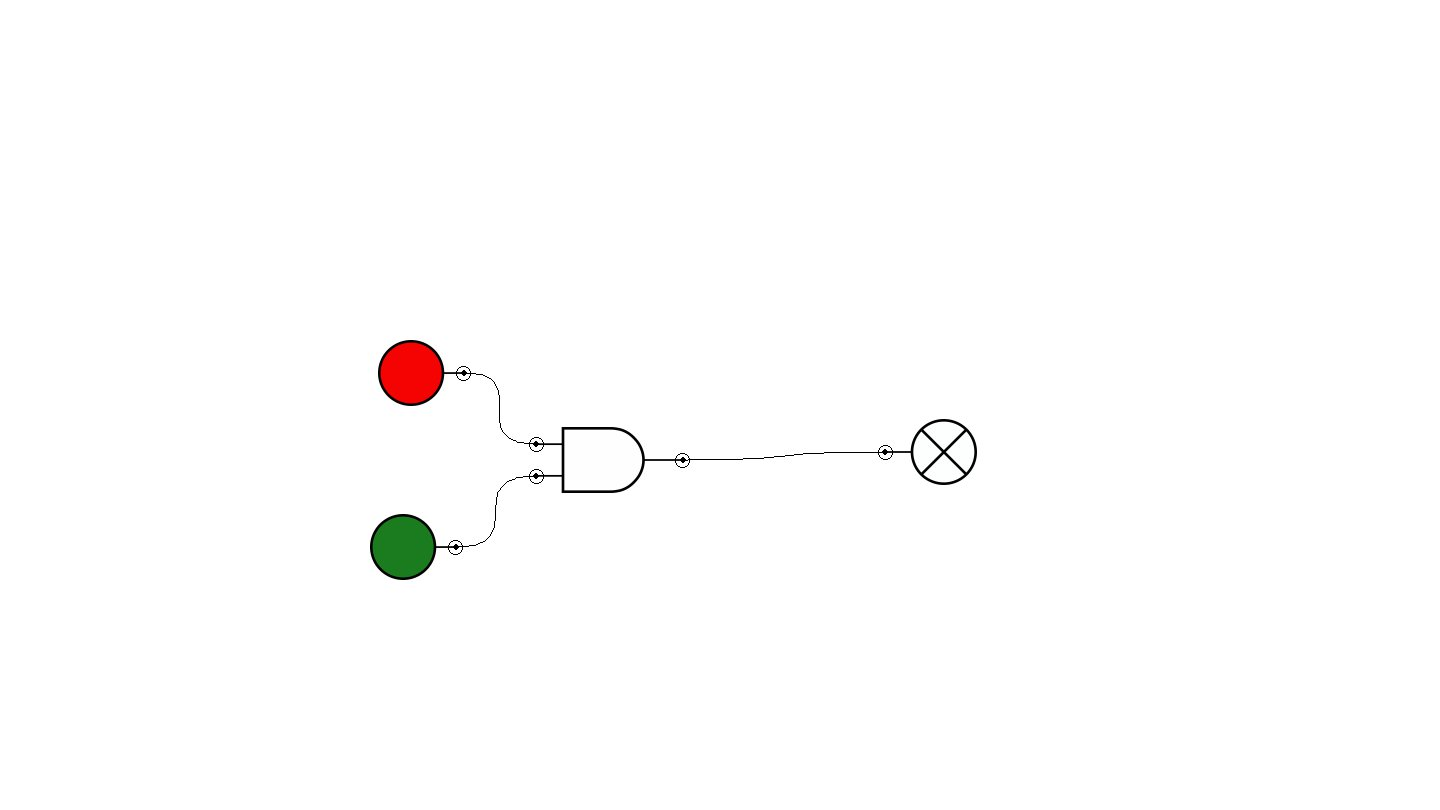and: (529, 427, 690, 493)
bulb: (878, 419, 977, 485)
switch_False: (378, 340, 471, 406)
switch_True: (370, 514, 463, 580)
